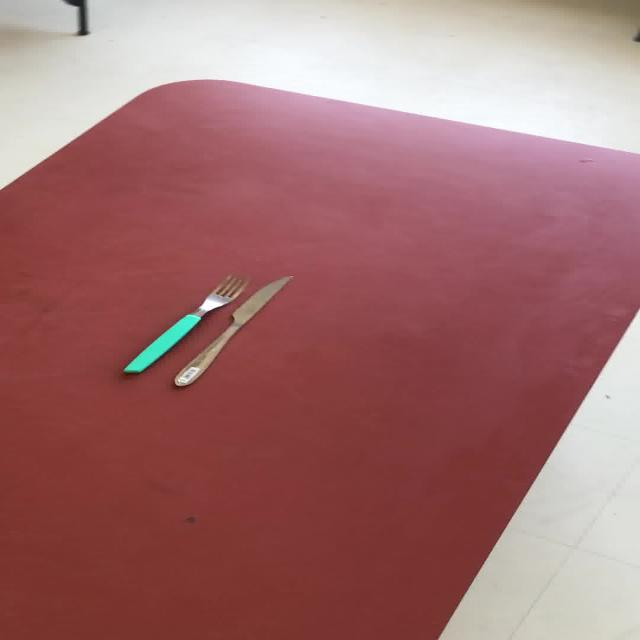fork: (121, 274, 250, 374)
knife fork: (172, 274, 293, 387)
